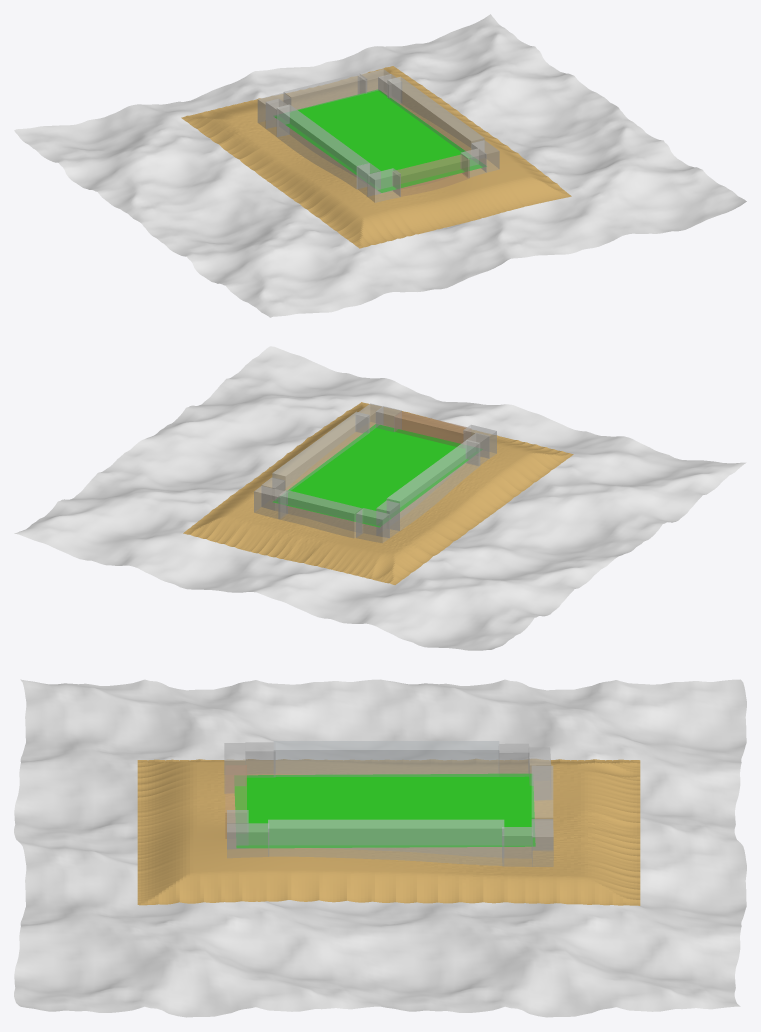
File: island.fbx
3 views of the same model, one above another, from view 1: azimuth 30°, elevation 25°; view 2: azimuth 150°, elevation 25°; view 3: azimuth 270°, elevation 25° (orthographic). The views are drawn at different scales.
Visible parts, largest first — view 1: Plane, Grid, Plane.001, Cube.000, Cube.002, Cube.004, Cube.003, Cube.007, Cube.005, Cube.001, Cube.006; view 2: Plane, Grid, Plane.001, Cube.000, Cube.002, Cube.003, Cube.004, Cube.005, Cube.006, Cube.007, Cube.001; view 3: Plane, Grid, Plane.001, Cube.002, Cube.000, Cube.006, Cube.007, Cube.003, Cube.005, Cube.001, Cube.004.
Part boxes in pixels (x1,y1,x2,y2): Plane: [14, 14, 746, 317]; Grid: [181, 66, 571, 248]; Plane.001: [274, 89, 486, 192]; Cube.000: [276, 104, 369, 189]; Cube.002: [387, 76, 484, 152]; Cube.004: [392, 154, 469, 196]; Cube.003: [283, 73, 367, 110]; Cube.007: [357, 163, 400, 202]; Cube.005: [257, 93, 291, 136]; Cube.001: [460, 140, 499, 177]; Cube.006: [358, 69, 401, 103]; Plane: [14, 346, 746, 650]; Grid: [183, 402, 573, 584]; Plane.001: [273, 424, 482, 527]; Cube.000: [386, 440, 480, 530]; Cube.002: [272, 411, 369, 490]; Cube.003: [278, 490, 361, 538]; Cube.004: [394, 411, 470, 446]; Cube.005: [356, 500, 399, 542]; Cube.006: [254, 477, 287, 518]; Cube.007: [463, 425, 496, 465]; Cube.001: [355, 403, 401, 432]; Plane: [14, 679, 746, 1017]; Grid: [137, 759, 640, 905]; Plane.001: [234, 773, 535, 848]; Cube.002: [268, 819, 504, 865]; Cube.000: [273, 741, 499, 776]; Cube.006: [502, 819, 553, 866]; Cube.007: [224, 742, 275, 793]; Cube.003: [531, 765, 553, 850]; Cube.005: [499, 743, 551, 792]; Cube.001: [227, 810, 269, 857]; Cube.004: [225, 765, 246, 838].
Bounding box in the file's own units: 7224 × 806 × 6785.
